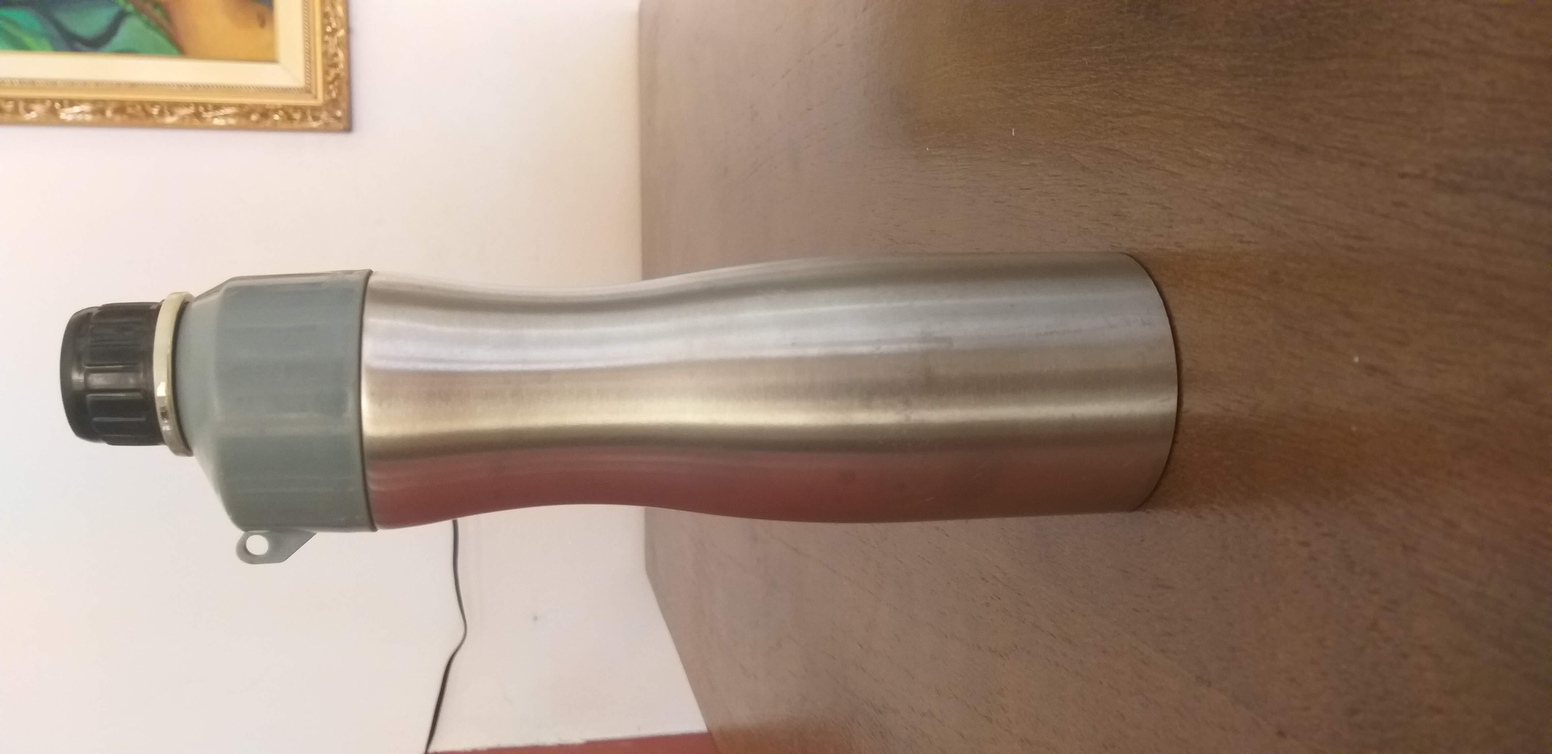gym bottle: (52, 235, 1192, 568)
